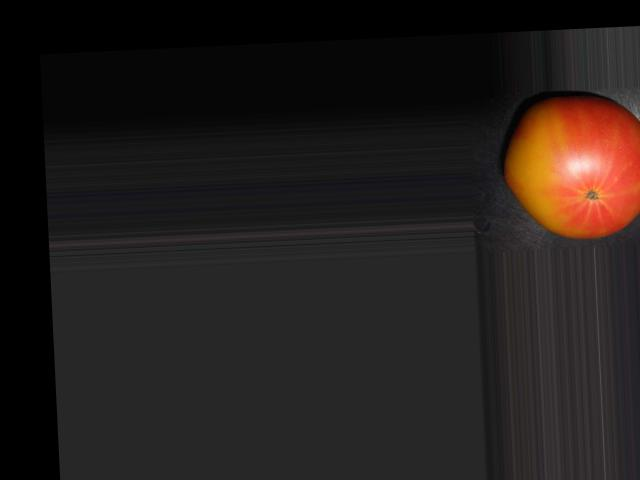tomato: (502, 91, 640, 242)
